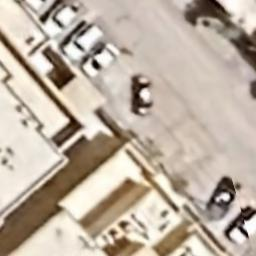SUV: (61, 21, 105, 63), (227, 206, 256, 247)
sedan: (204, 175, 238, 223), (40, 1, 80, 39), (81, 40, 121, 78), (134, 72, 154, 116)
